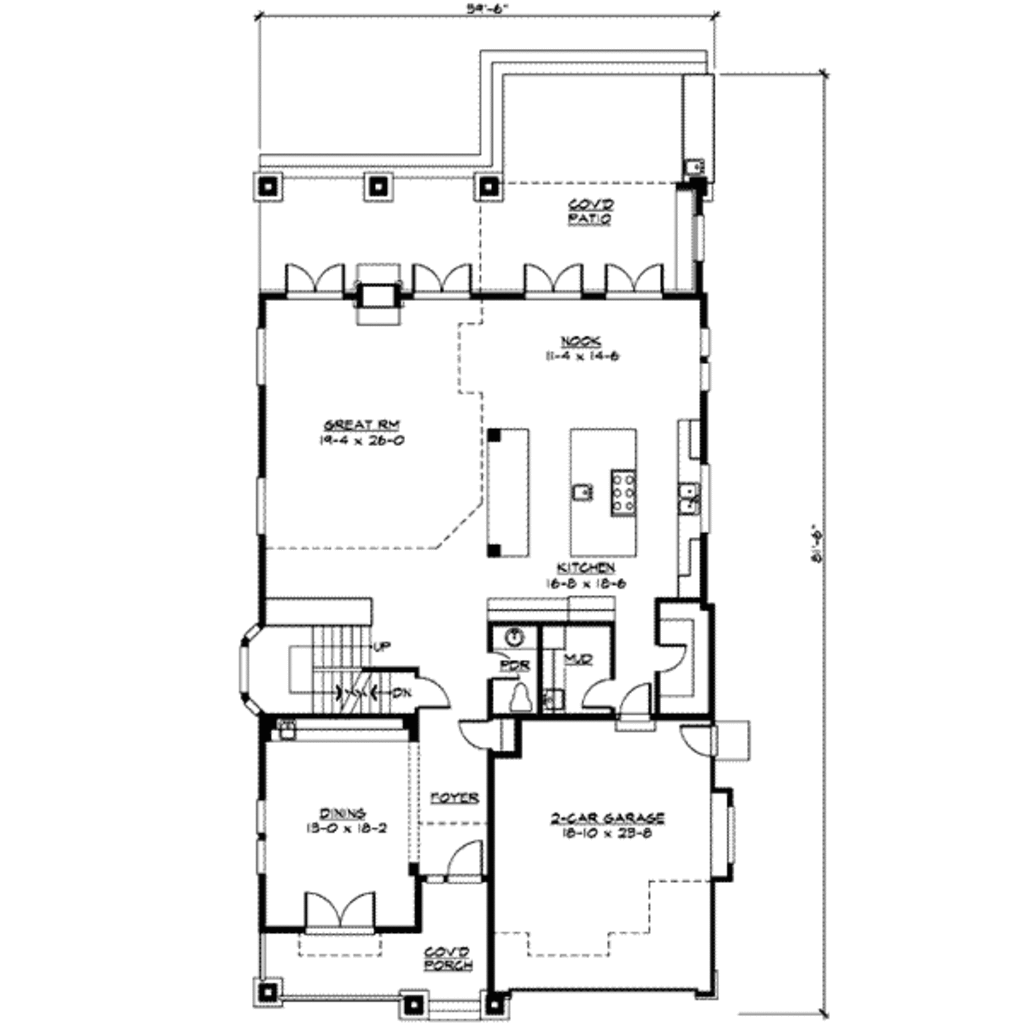door: (288, 888, 386, 935), (283, 246, 350, 302), (430, 821, 486, 888), (413, 255, 480, 303), (605, 264, 672, 305), (452, 713, 522, 752), (513, 261, 586, 297), (613, 677, 652, 739), (673, 721, 728, 760), (655, 641, 695, 685), (573, 677, 619, 713), (414, 671, 450, 708)
kitchen_bar: (558, 413, 645, 564)
large_sink: (503, 667, 541, 713)
small_sink: (491, 622, 545, 655)
stairs: (264, 624, 406, 711)
twin_sink: (666, 478, 722, 536)
window: (683, 205, 720, 267), (692, 330, 714, 396), (253, 330, 272, 394), (252, 480, 272, 532)
